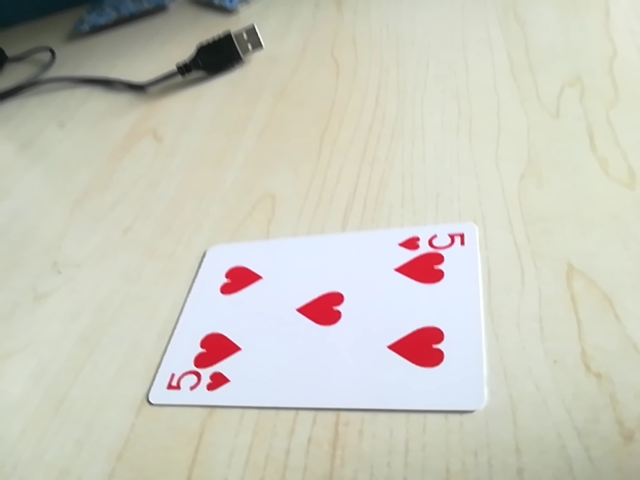hx 5: (161, 368, 232, 400), (395, 225, 470, 255)
